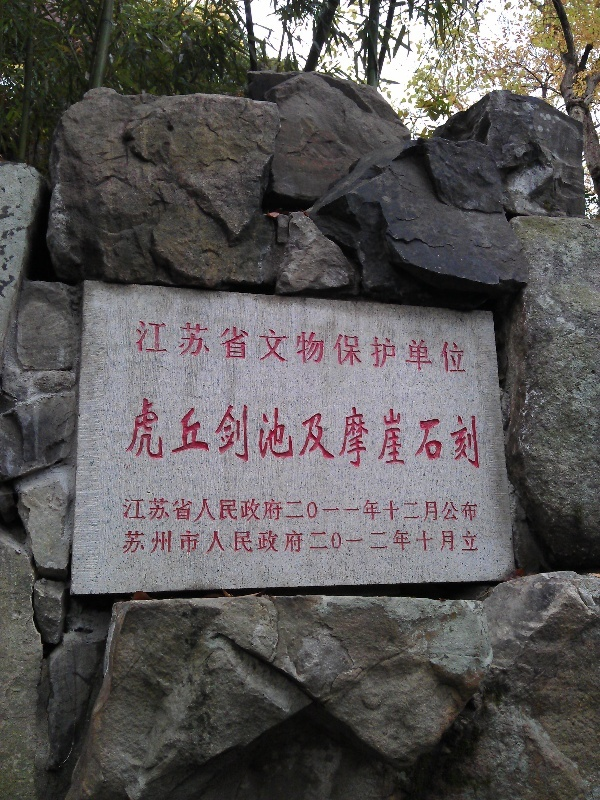text: (129, 393, 144, 474), (145, 393, 160, 474), (161, 393, 176, 474), (177, 393, 192, 474), (193, 393, 208, 474), (209, 393, 224, 474), (225, 393, 240, 474), (241, 393, 256, 474), (257, 393, 272, 474), (273, 393, 288, 474), (289, 393, 304, 474), (305, 393, 320, 474), (321, 393, 336, 474), (337, 393, 352, 474), (353, 393, 368, 474), (369, 393, 384, 474), (385, 393, 400, 474), (401, 393, 416, 474), (417, 393, 432, 474), (433, 393, 448, 474), (449, 393, 464, 474), (465, 393, 480, 474), (145, 317, 160, 376), (161, 317, 176, 376), (177, 317, 192, 376), (193, 317, 208, 376), (209, 317, 224, 376), (225, 317, 240, 376), (241, 317, 256, 376), (257, 317, 272, 376), (273, 317, 288, 376), (289, 317, 304, 376), (305, 317, 320, 376), (321, 317, 336, 376), (337, 317, 352, 376), (353, 317, 368, 376), (369, 317, 384, 376), (385, 317, 400, 376), (401, 317, 416, 376), (417, 317, 432, 376), (433, 317, 448, 376), (449, 317, 464, 376), (135, 317, 144, 376), (129, 497, 144, 525), (145, 497, 160, 525), (161, 497, 176, 525), (177, 497, 192, 525), (193, 497, 208, 525), (209, 497, 224, 525), (225, 497, 240, 525), (241, 497, 256, 525), (257, 497, 272, 525), (273, 497, 288, 525), (289, 497, 304, 525), (305, 497, 320, 525), (321, 497, 336, 525), (337, 497, 352, 525), (353, 497, 368, 525), (369, 497, 384, 525), (385, 497, 400, 525), (401, 497, 416, 525), (417, 497, 432, 525), (433, 497, 448, 525), (449, 497, 464, 525), (465, 497, 480, 525), (129, 528, 144, 556), (145, 528, 160, 556), (161, 528, 176, 556), (177, 528, 192, 556), (193, 528, 208, 556), (209, 528, 224, 556), (225, 528, 240, 556), (241, 528, 256, 556), (257, 528, 272, 556), (273, 528, 288, 556), (289, 528, 304, 556), (305, 528, 320, 556), (321, 528, 336, 556), (337, 528, 352, 556), (353, 528, 368, 556), (369, 528, 384, 556), (385, 528, 400, 556), (401, 528, 416, 556), (417, 528, 432, 556), (433, 528, 448, 556), (449, 528, 464, 556), (465, 528, 480, 556), (481, 393, 484, 474), (465, 317, 468, 376), (122, 497, 128, 525), (126, 393, 128, 474), (123, 528, 128, 556)
